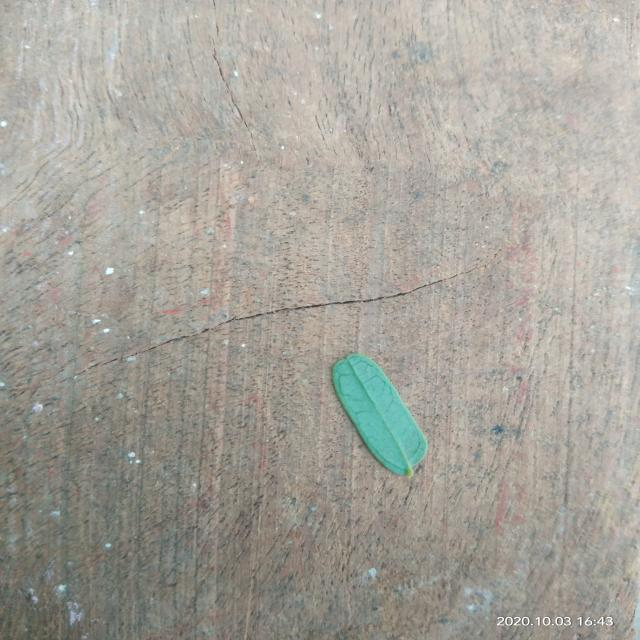tamarind: (332, 354, 428, 476)
